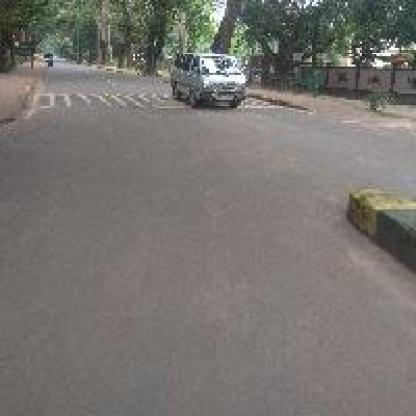Speed Bump: (38, 92, 168, 108)
